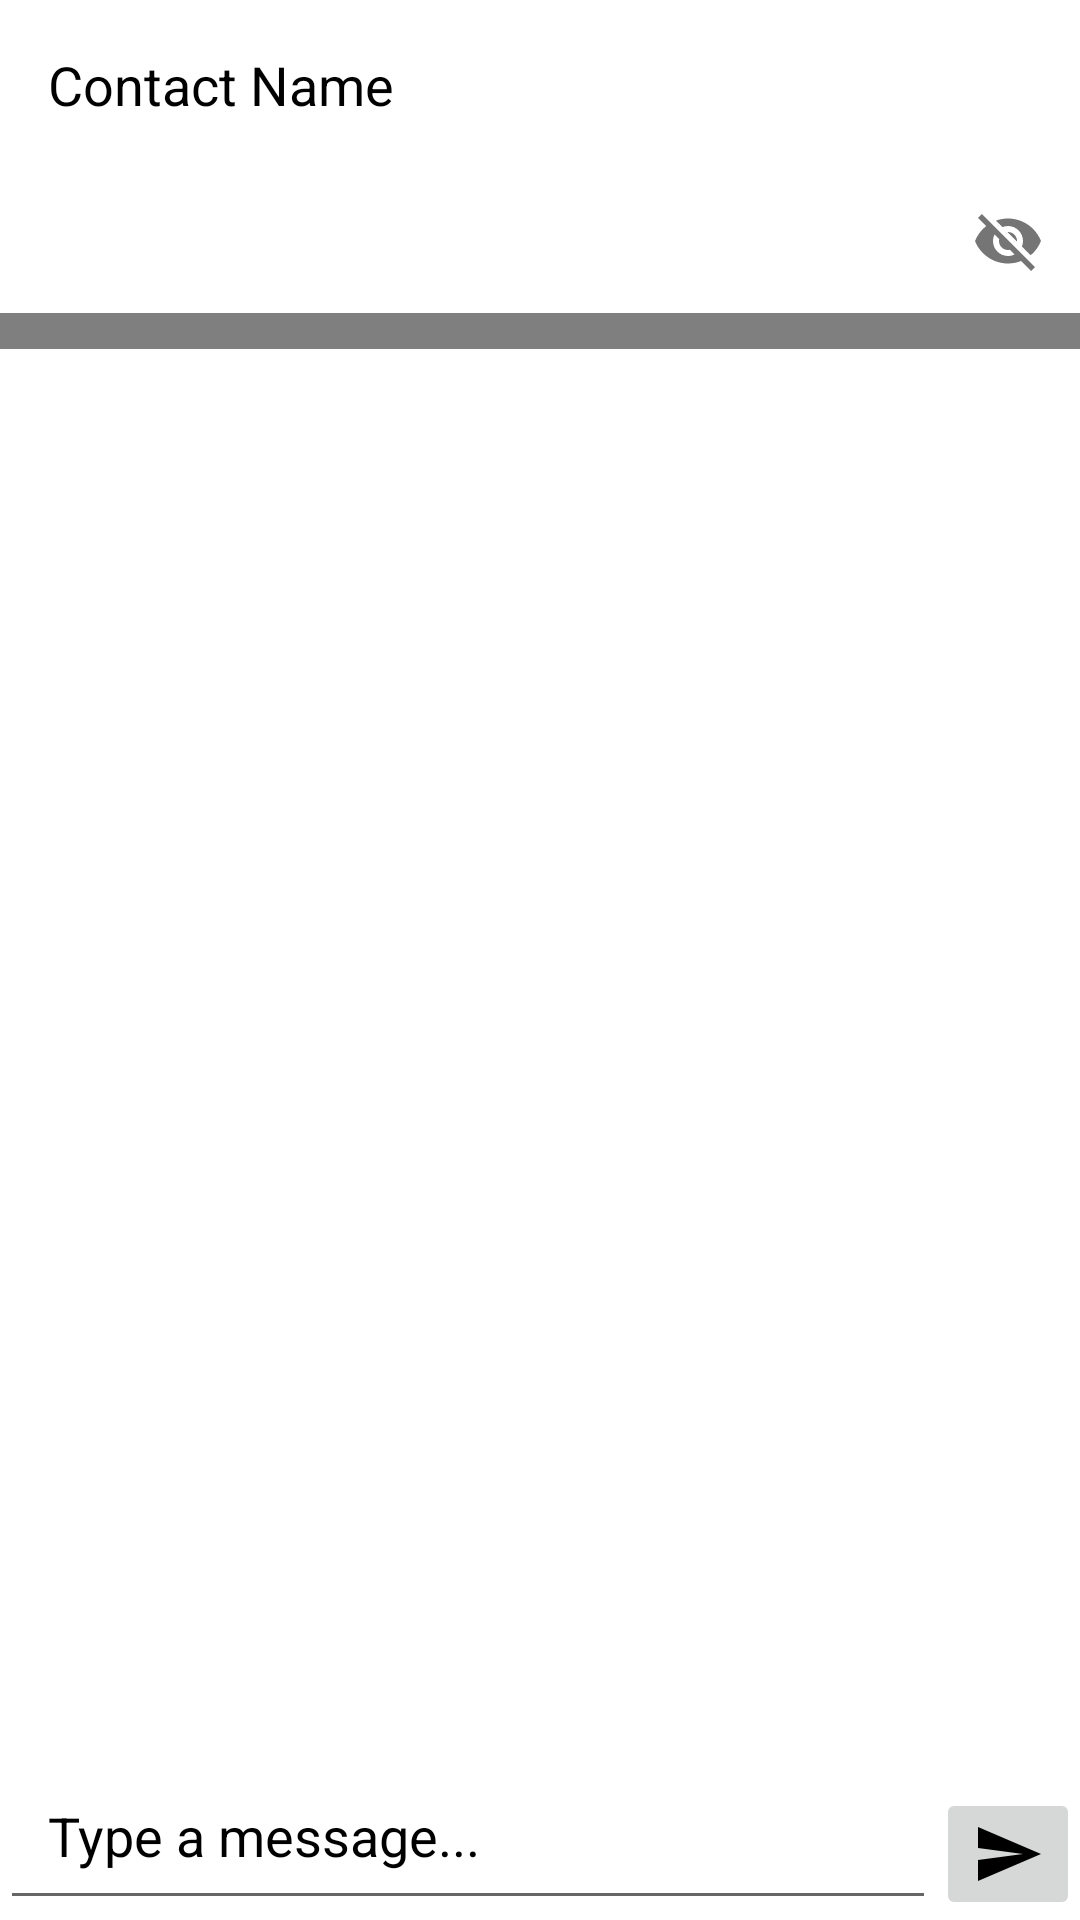

Point at icon controls on the screen. Image size 1080 x 1920, points as (x=x, y=y).
Send: (x=1008, y=1854)
